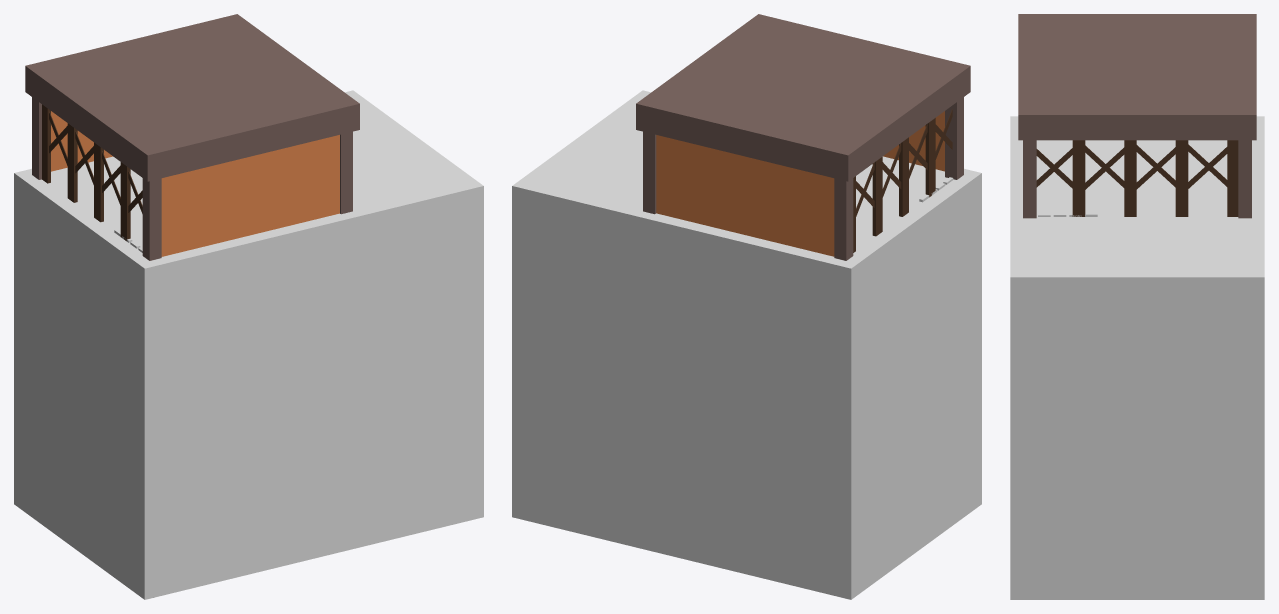
The model's file is winda animacja otwieranych drzwi2.glb.
3 views of the same model, side by side, from view 1: azimuth 30°, elevation 25°; view 2: azimuth 150°, elevation 25°; view 3: azimuth 270°, elevation 25° (orthographic). The views are drawn at different scales.
Visible parts, largest first — view 1: Cube.001, Cube, Plane, Cube.003, Plane.001; view 2: Cube.001, Cube, Plane.001, Cube.003, Plane; view 3: Cube.001, Cube, Cube.004.
Part boxes in pixels (left/top/right/bottom): Cube.001: left=14, top=90, right=483, bottom=599; Cube: left=25, top=14, right=359, bottom=260; Plane: left=161, top=135, right=339, bottom=256; Cube.003: left=42, top=104, right=142, bottom=241; Plane.001: left=51, top=111, right=112, bottom=171; Cube.001: left=512, top=90, right=981, bottom=599; Cube: left=636, top=14, right=970, bottom=260; Plane.001: left=656, top=135, right=834, bottom=256; Cube.003: left=853, top=109, right=952, bottom=252; Plane: left=883, top=111, right=944, bottom=171; Cube.001: left=1010, top=116, right=1264, bottom=599; Cube: left=1018, top=14, right=1256, bottom=218; Cube.004: left=1036, top=140, right=1238, bottom=216.
Size of the model in its own units: 5.66 by 7.15 by 3.78.
